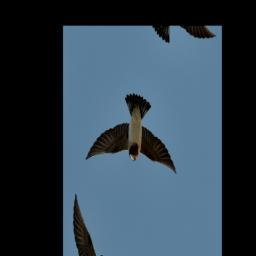Swallow: (84, 69, 188, 226)
